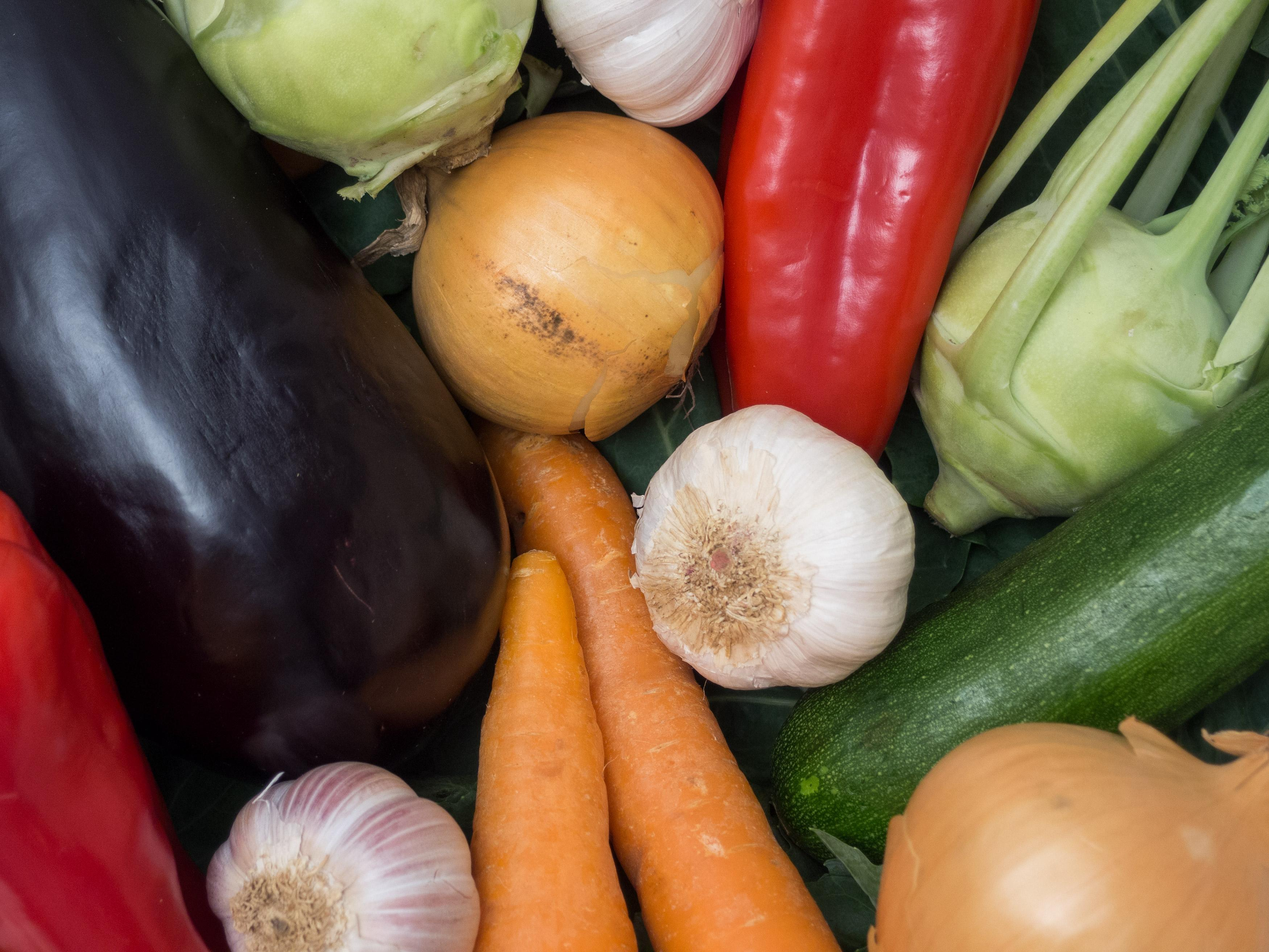carrot: (460, 492, 856, 952)
garlic: (587, 408, 955, 719), (163, 751, 503, 952)
onion: (294, 89, 878, 455), (832, 691, 1269, 952)
